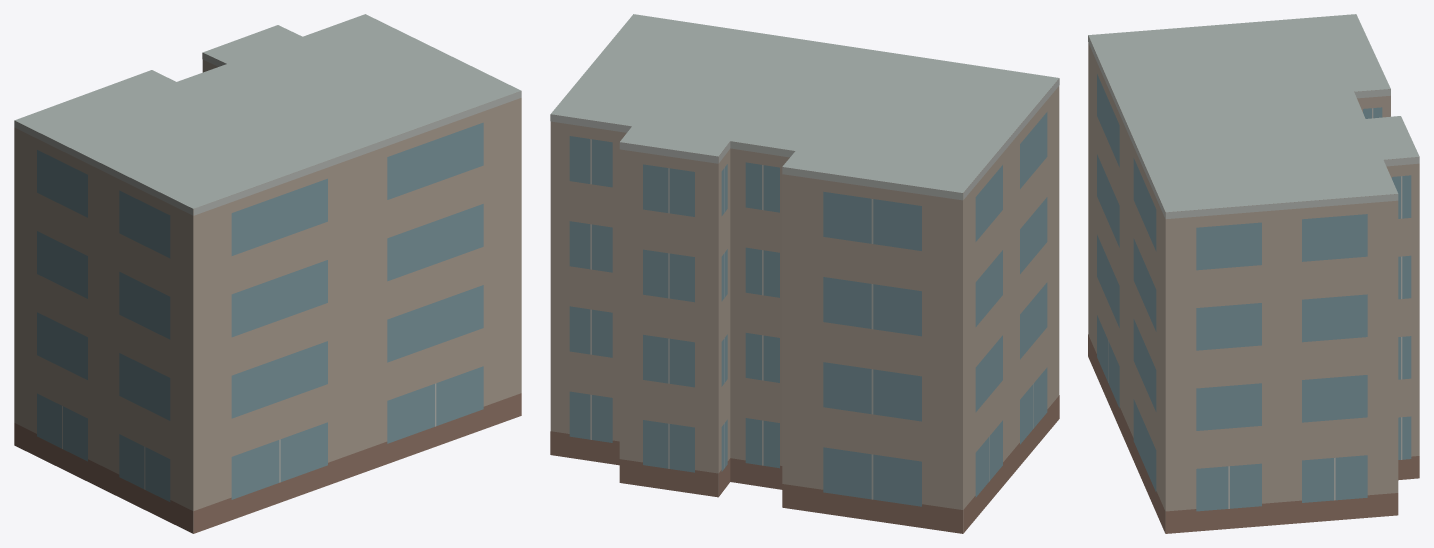
Rendered from survey-upis-32725478.glb.
The picture shows the model from 3 angles, left to right: view 1: azimuth 30°, elevation 25°; view 2: azimuth 150°, elevation 25°; view 3: azimuth 270°, elevation 25°; orthographic projection. The views are drawn at different scales.
Visible parts, largest first — view 1: survey-upis-32725478.tmp; view 2: survey-upis-32725478.tmp; view 3: survey-upis-32725478.tmp.
Boxes of the visible parts, <box> form: survey-upis-32725478.tmp: <box>14,14,521,533</box>; survey-upis-32725478.tmp: <box>550,14,1059,533</box>; survey-upis-32725478.tmp: <box>1088,14,1419,533</box>.
Size of the model in its own units: 15.09 by 11.4 by 10.66.
